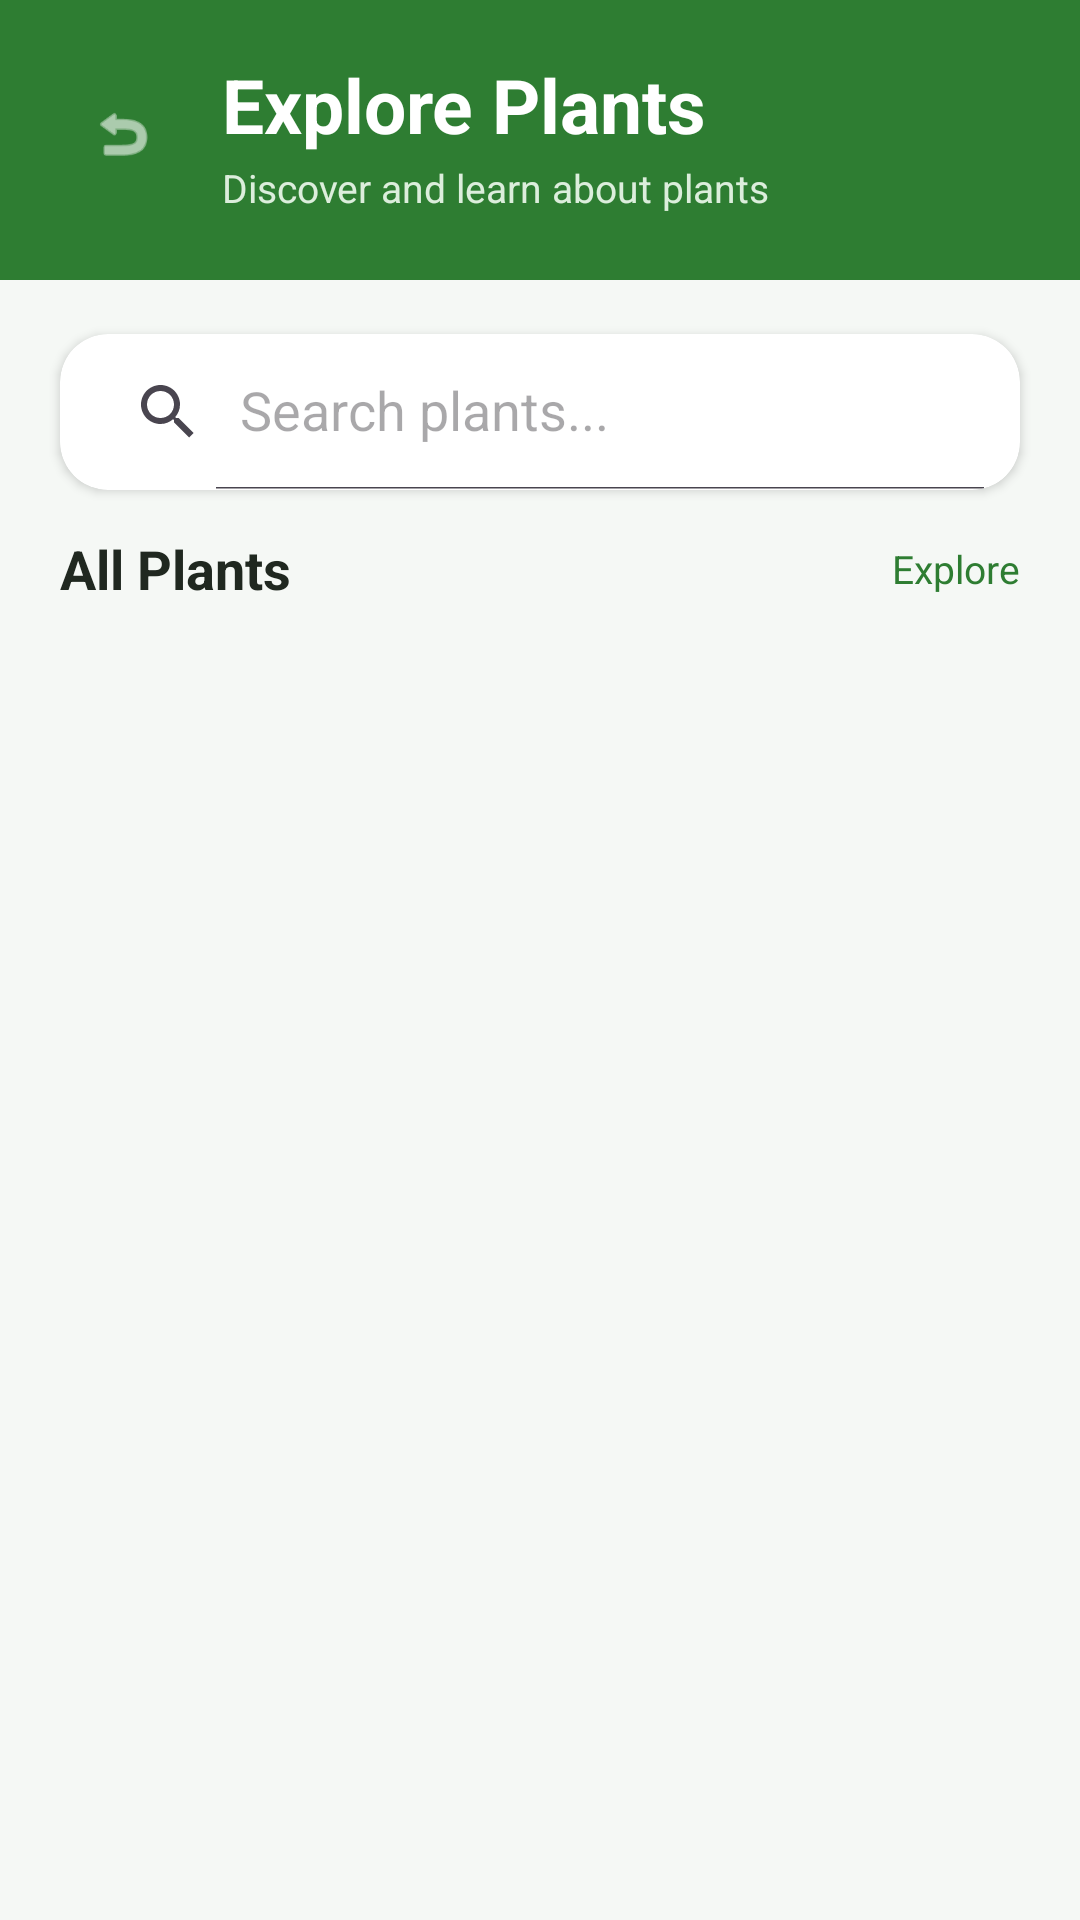

Point at icon controls on the screen. Image size 1080x1920, points as (x=x, y=y).
Back: (x=124, y=134)
